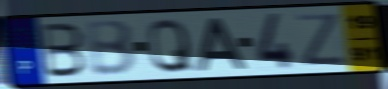4: (255, 11, 296, 72)
A: (194, 16, 249, 72)
B: (83, 18, 139, 78), (40, 22, 88, 79)
Q: (147, 16, 196, 75)
Z: (295, 12, 350, 68)
